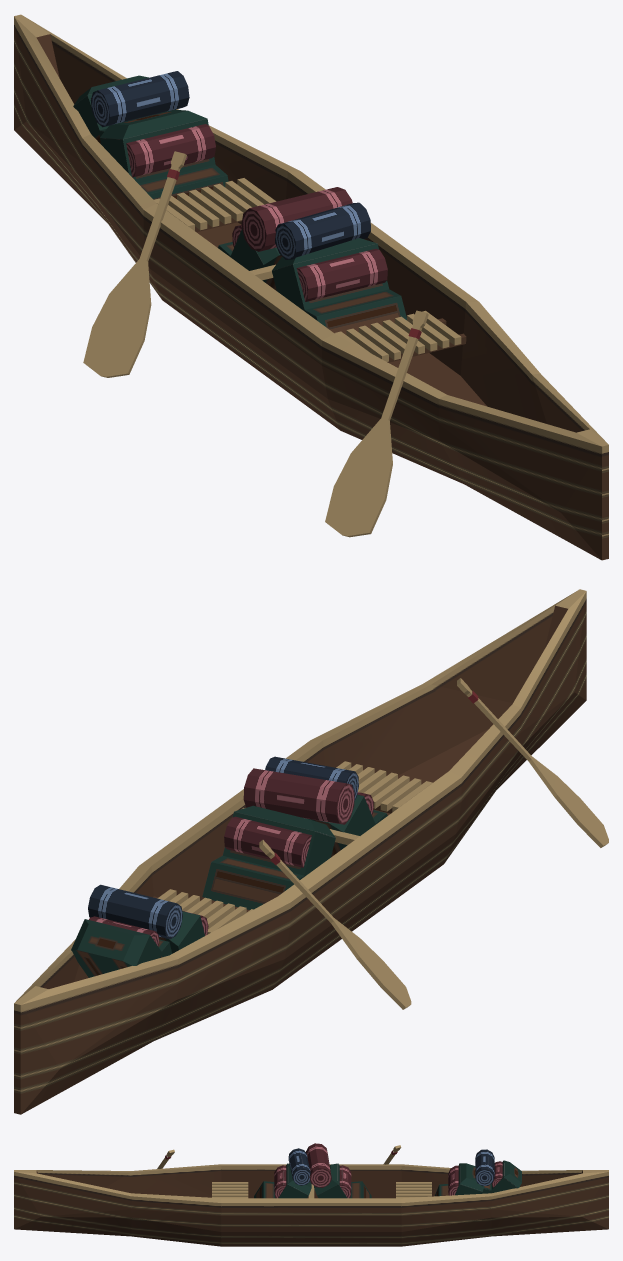
Rendered from 03f247ae-7aae-4bc2-b6db-62b4336b3413.glb.
3 views of the same model, one above another, from view 1: azimuth 30°, elevation 25°; view 2: azimuth 150°, elevation 25°; view 3: azimuth 270°, elevation 25° (orthographic). The views are drawn at different scales.
Visible parts, largest first — view 1: Canoe_5, Paddle_10, Paddle_9; view 2: Canoe_5, Paddle_9, Paddle_10; view 3: Canoe_5.
Part boxes in pixels (x1,y1,x2,y2): Canoe_5: (14, 14, 608, 560); Paddle_10: (325, 310, 428, 537); Paddle_9: (83, 151, 186, 377); Canoe_5: (14, 589, 586, 1114); Paddle_9: (259, 840, 411, 1009); Paddle_10: (457, 678, 608, 847); Canoe_5: (14, 1143, 608, 1246).
Size of the model in its own units: 205 by 136 by 842.
Materials: 1 (1 with a texture image).
